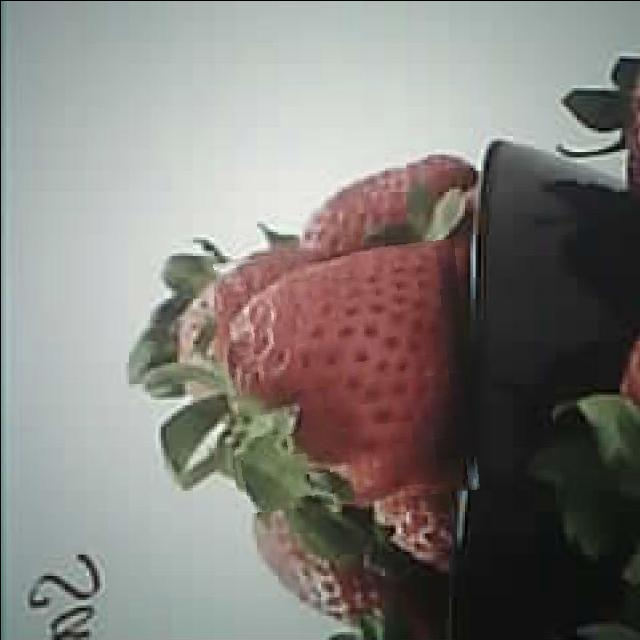strawberry: (219, 243, 473, 507)
